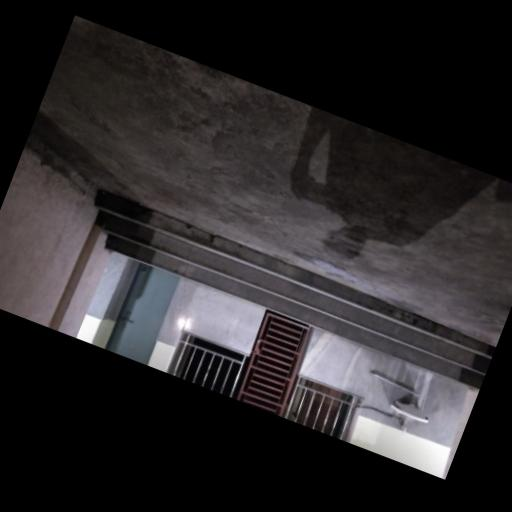stairs: (95, 190, 495, 387)
